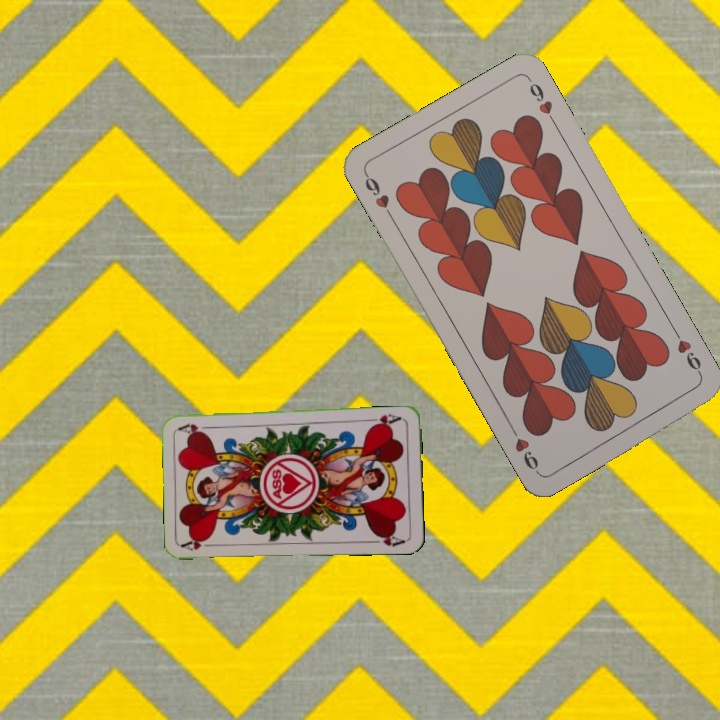H9: (360, 169, 397, 222), (669, 326, 705, 379)
HA: (364, 410, 405, 429), (179, 535, 220, 553)
